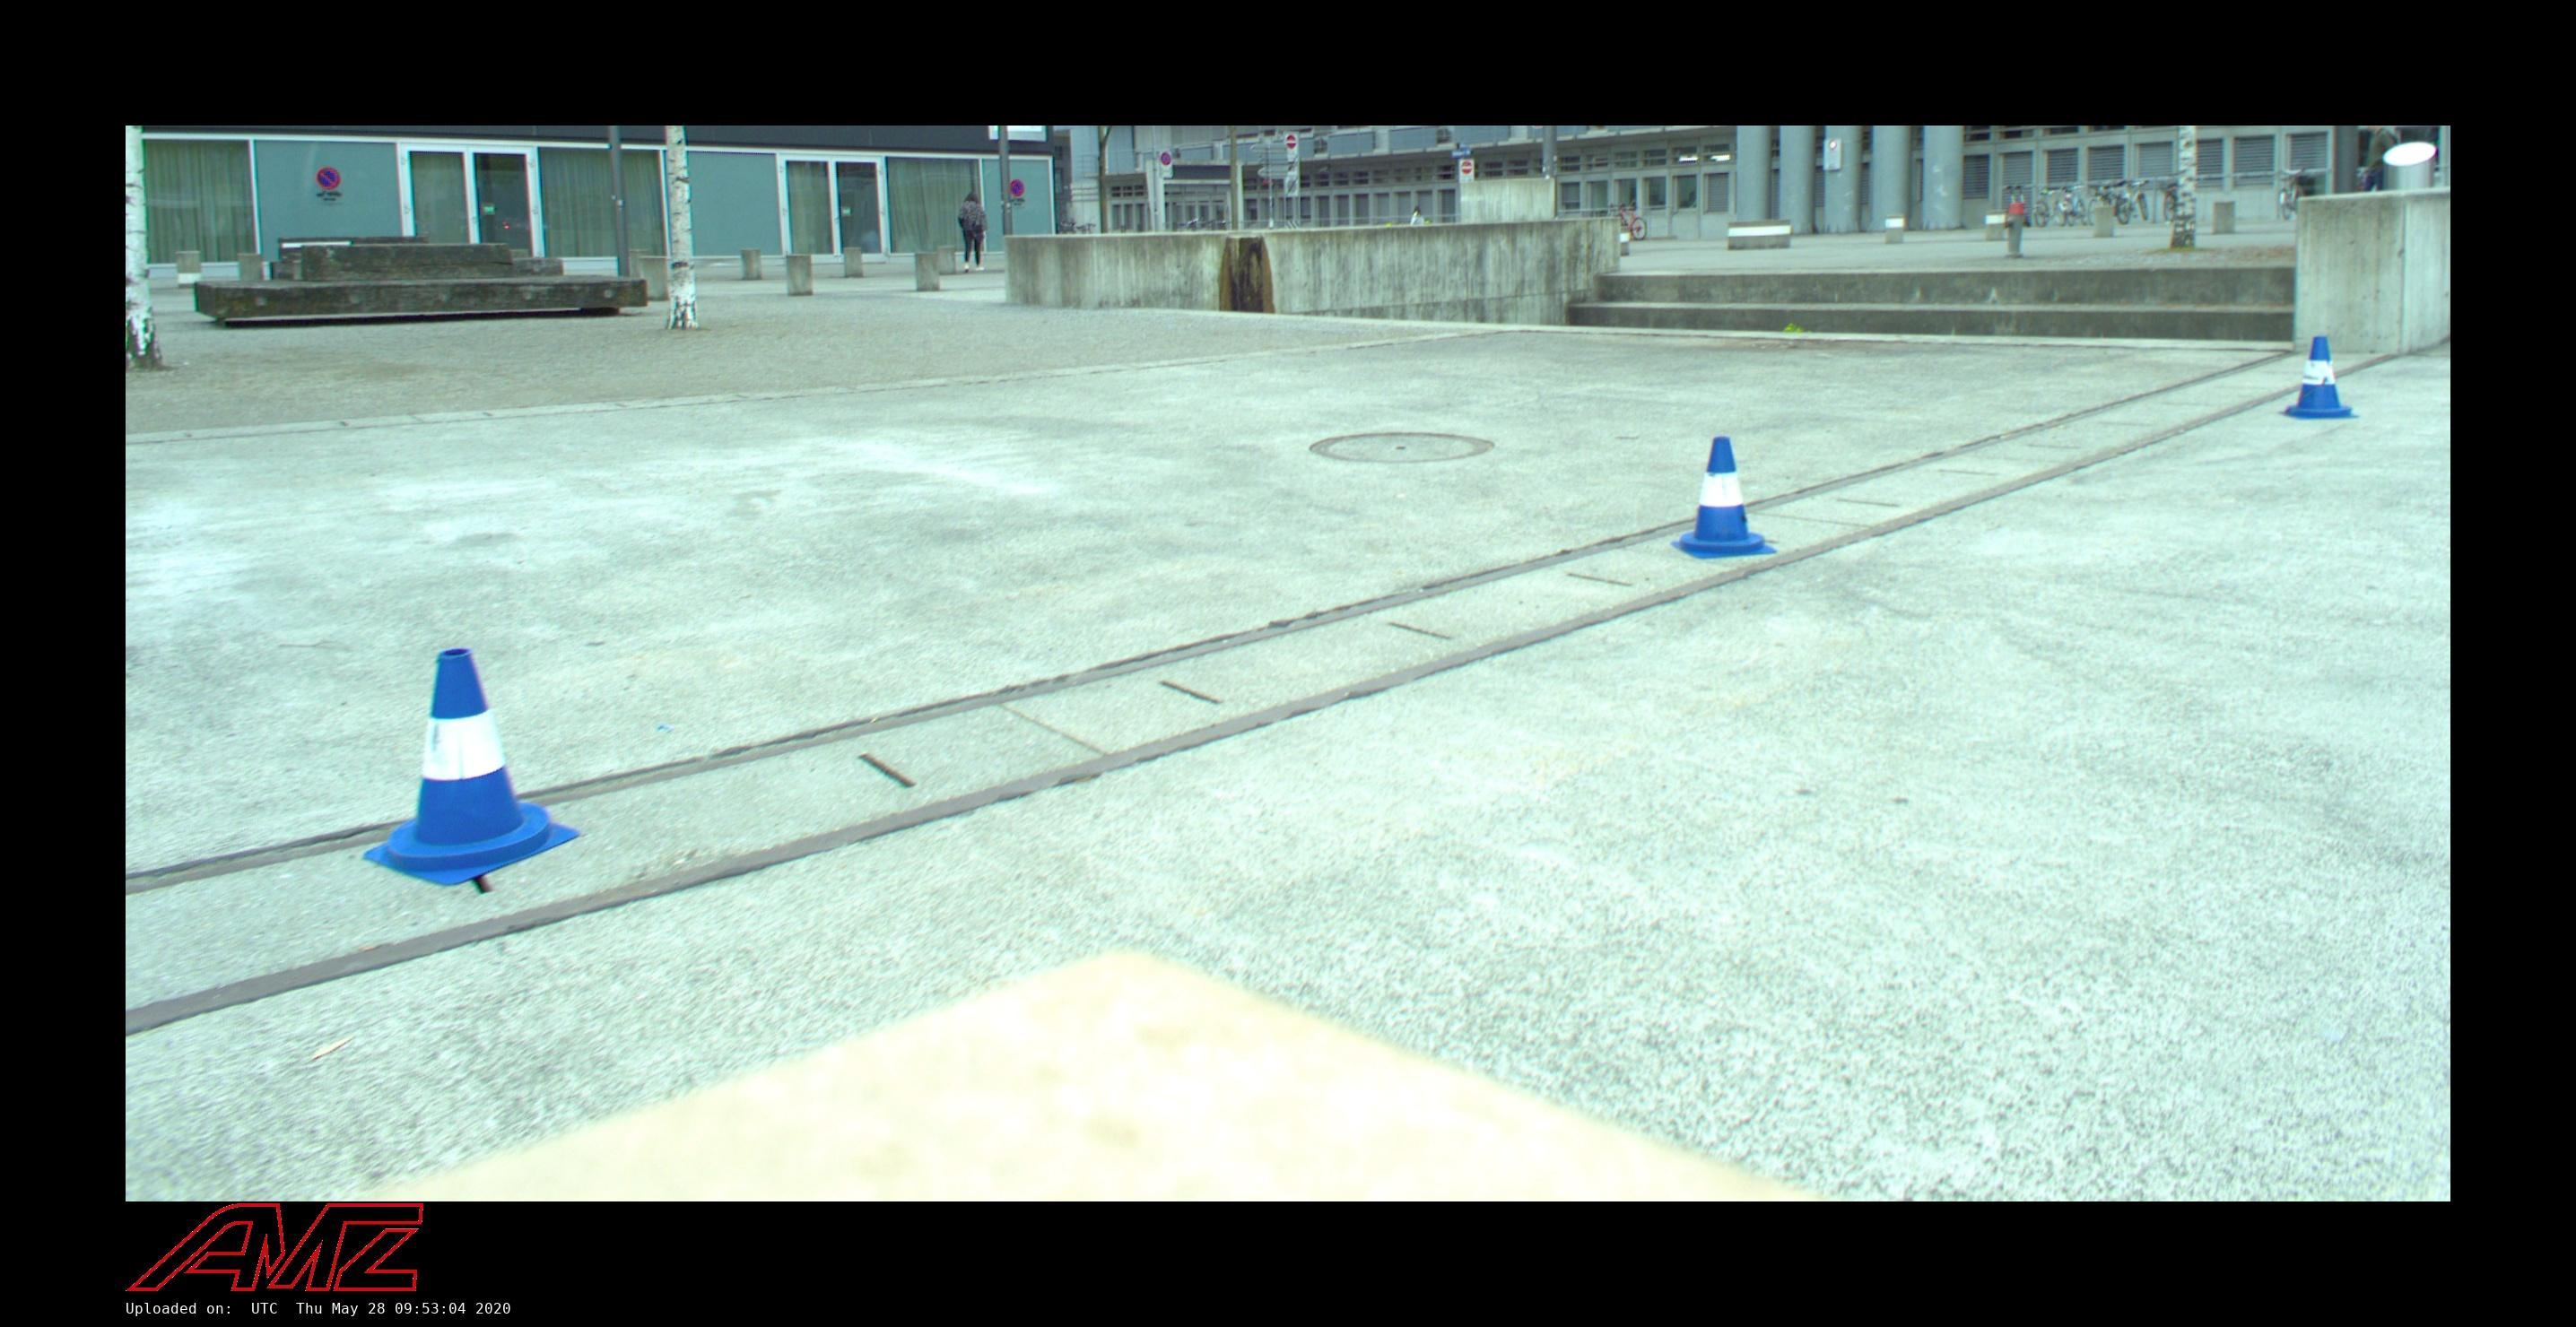blue_cone: (364, 646, 575, 883), (1667, 435, 1777, 559), (2281, 336, 2354, 417)
